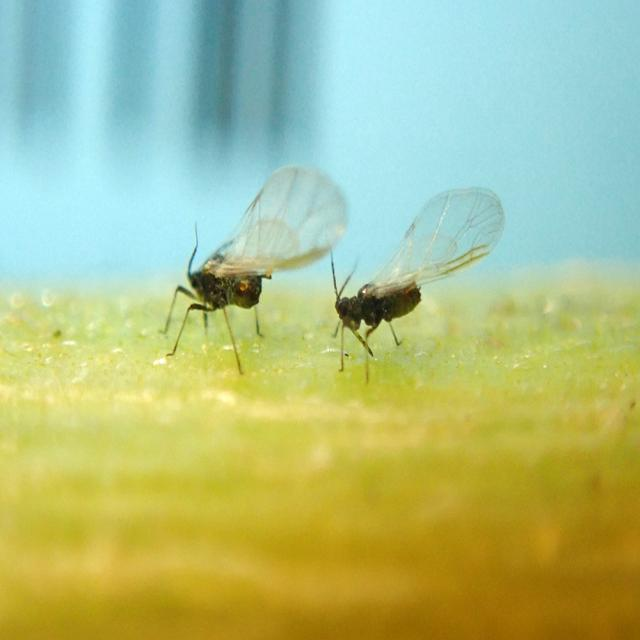Aphid-Grown-have wings-: (149, 153, 343, 386), (316, 186, 518, 370)
